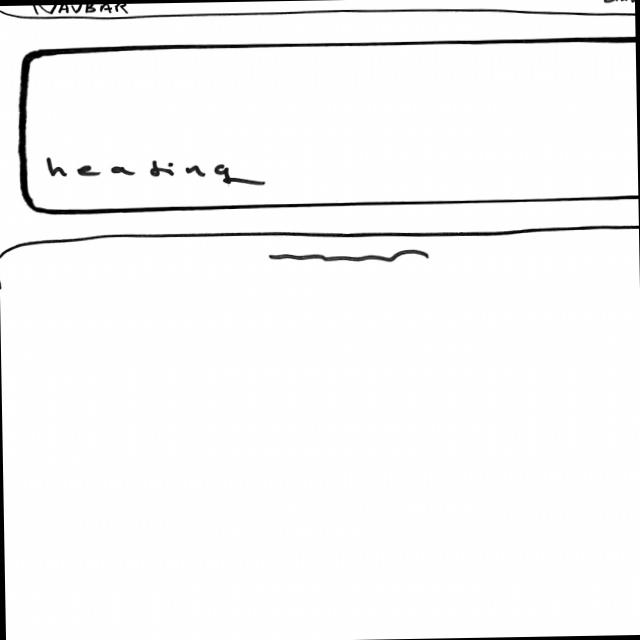container: (20, 35, 639, 215), (1, 1, 635, 26)
label: (44, 153, 270, 192), (30, 4, 130, 16), (603, 1, 635, 5)
text: (266, 248, 431, 267)
